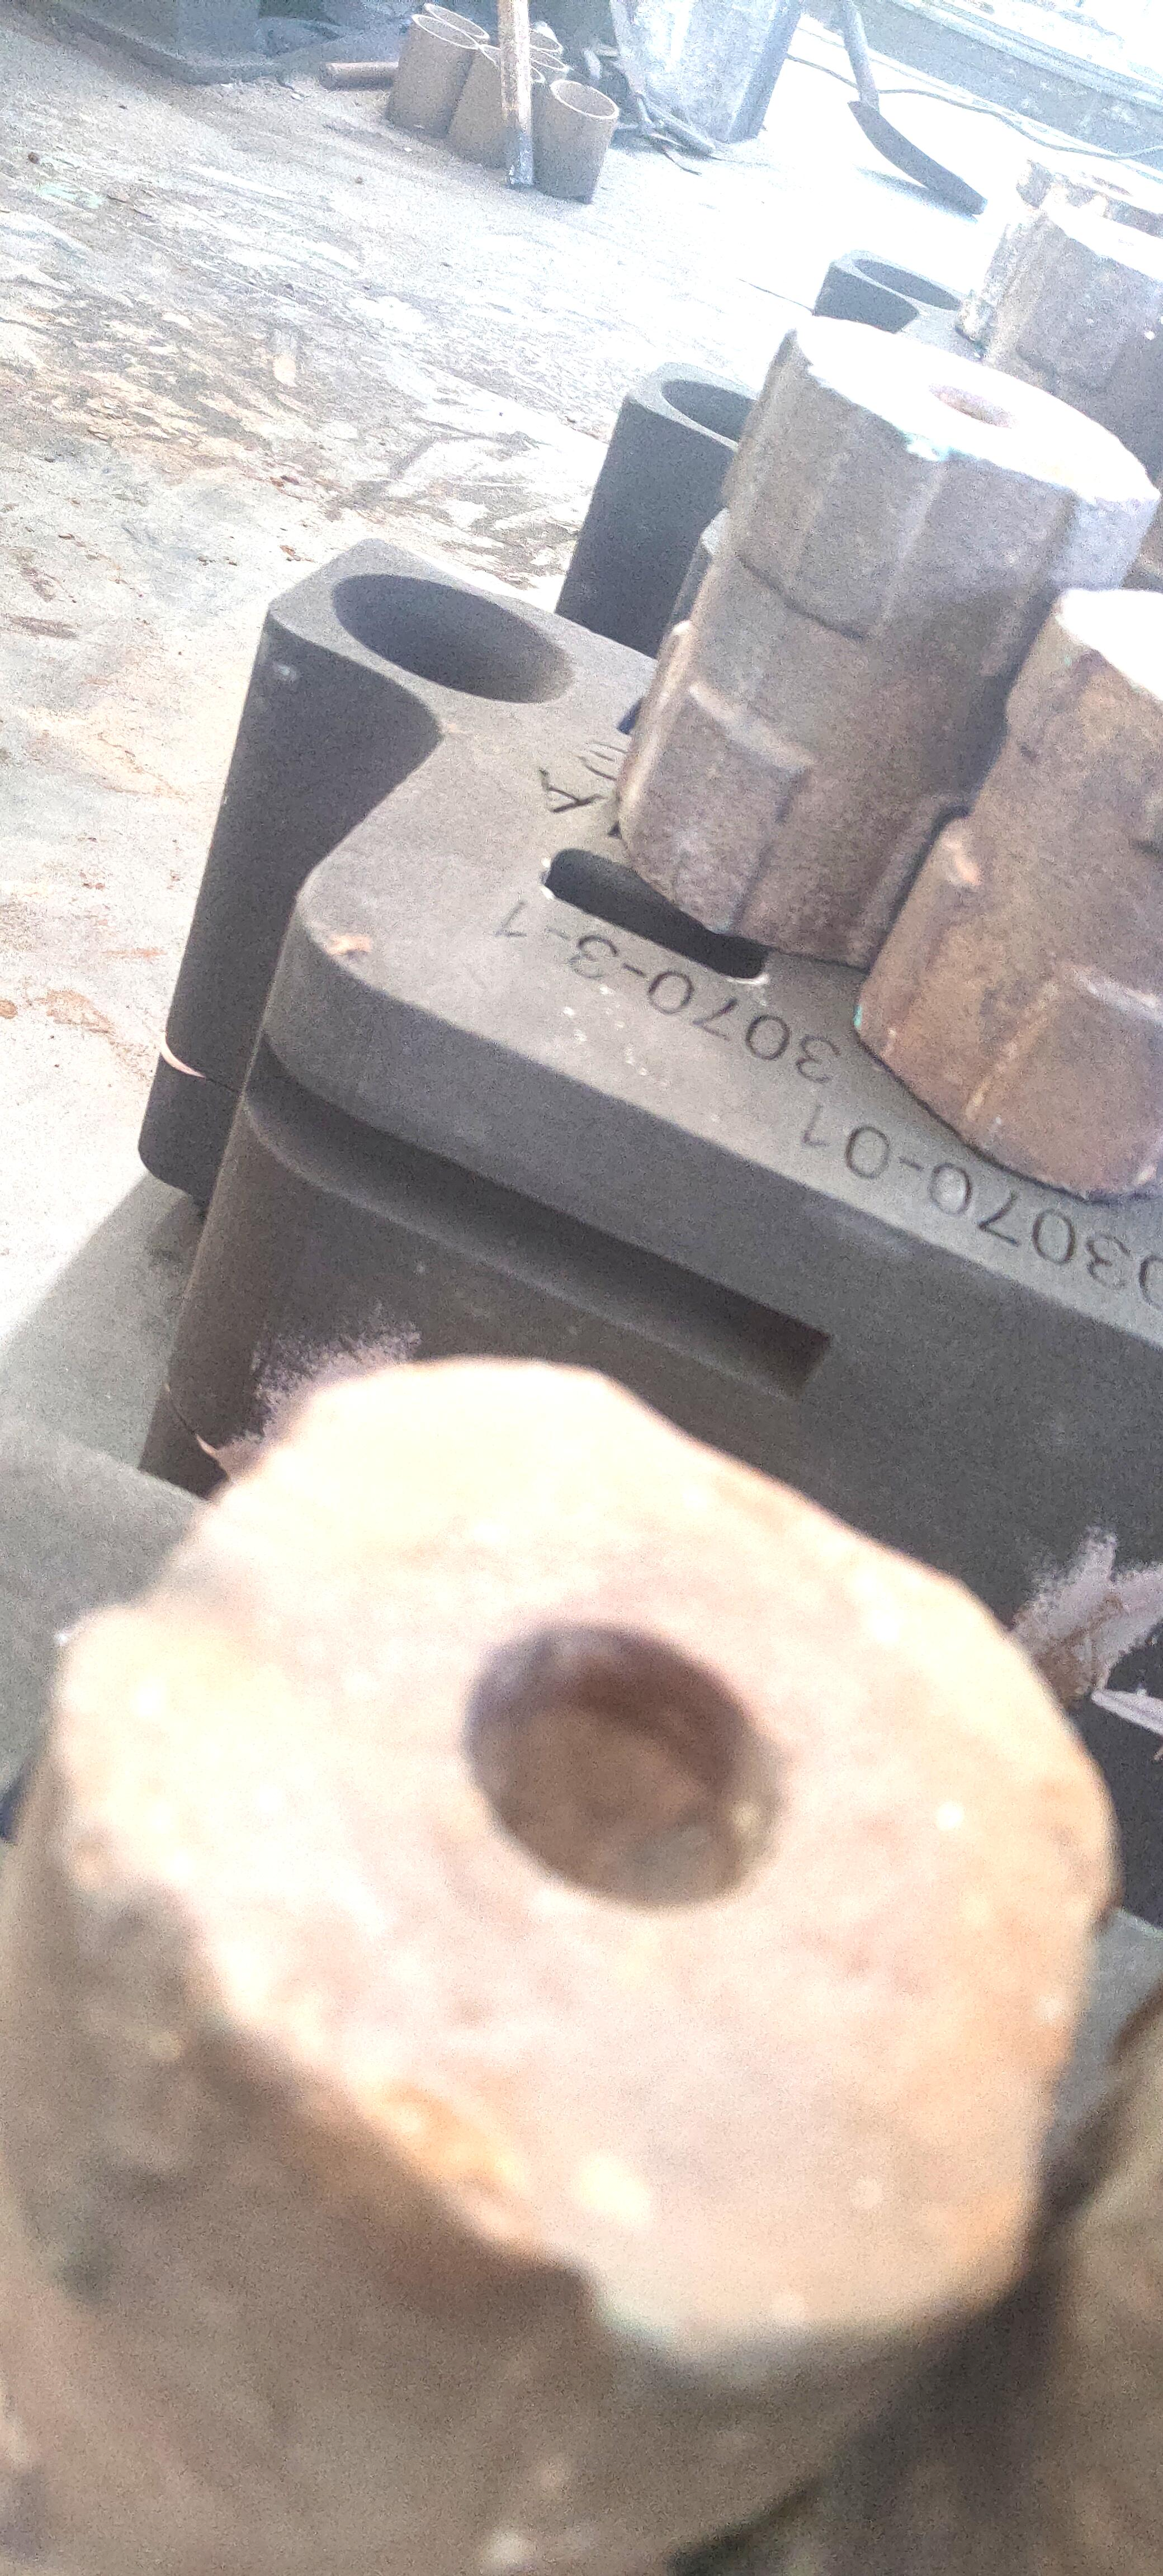pouring hole: (329, 573, 573, 705), (660, 379, 784, 449), (849, 253, 966, 310), (407, 12, 476, 51), (549, 79, 618, 118), (422, 2, 490, 39), (476, 48, 545, 84), (503, 41, 568, 72), (499, 21, 562, 51)
